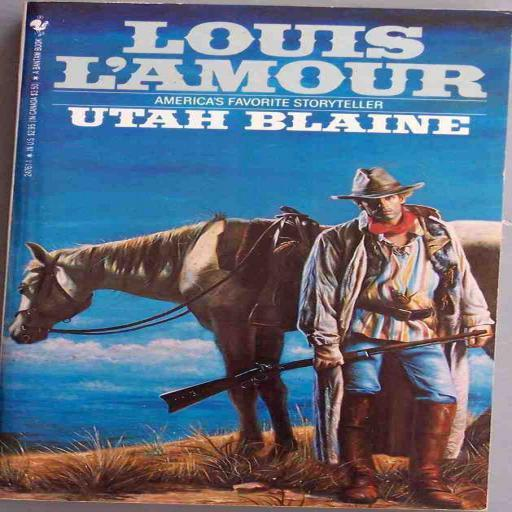horse: (6, 212, 498, 459)
